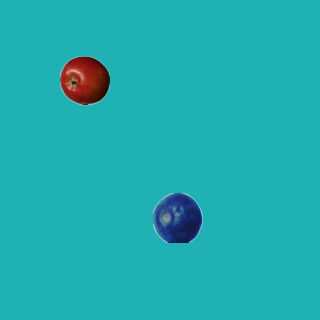Apple Braeburn: (59, 55, 109, 105)
Huckleberry: (152, 192, 202, 242)
